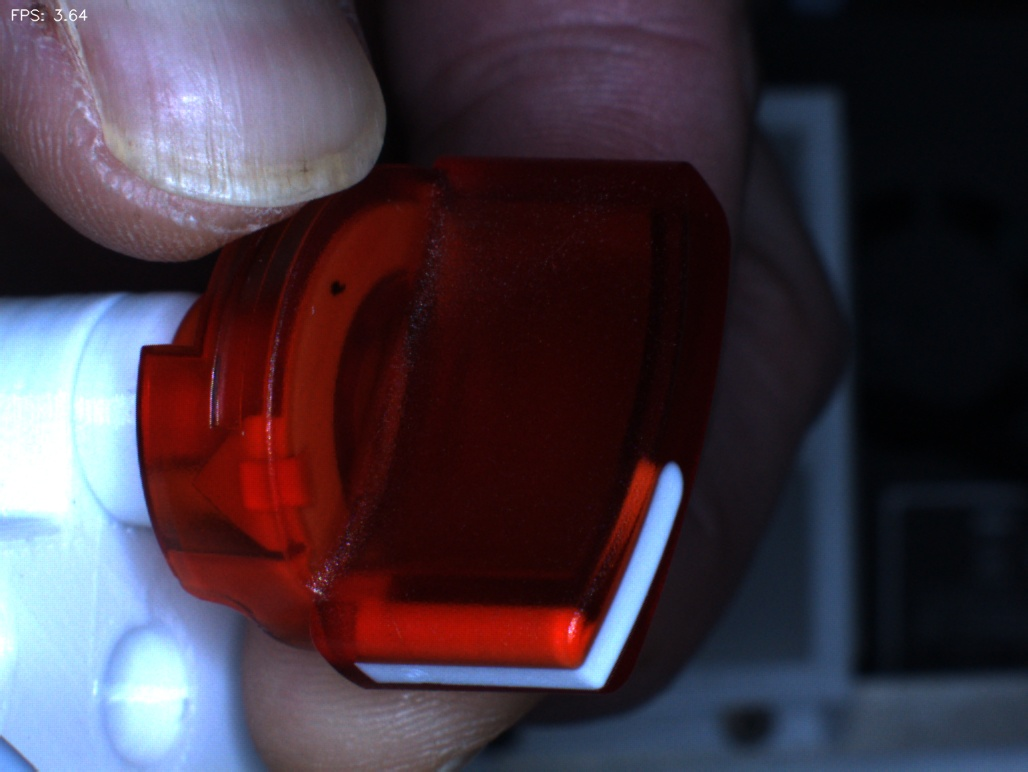PointNoir: (296, 247, 369, 331)
